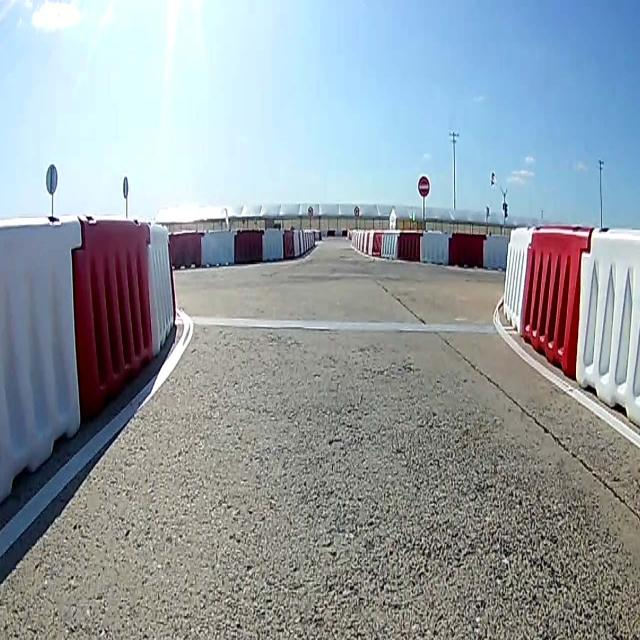girisyok: (418, 175, 430, 197)
